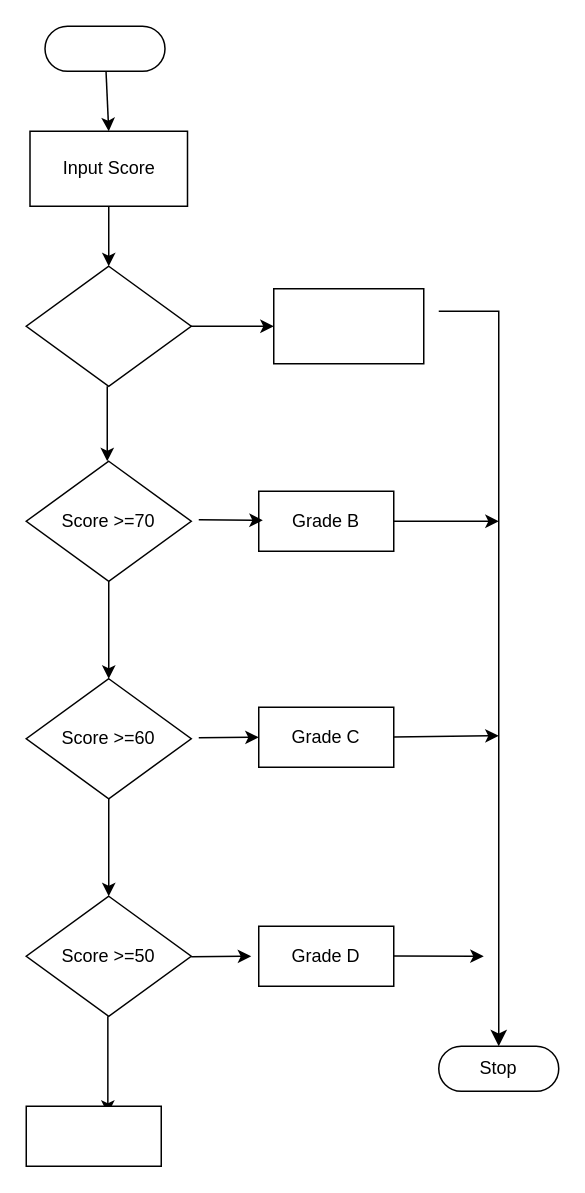
Image size: 585x1193. Some labels were removed from this diagram. Here are the shapes that lost their labels. From the top down, the centre of each, then its label:
At [104,48]: "Start".
At [108,325]: "Score >=80".
At [348,325]: "Grade A".
At [93,1135]: "Grade F".
